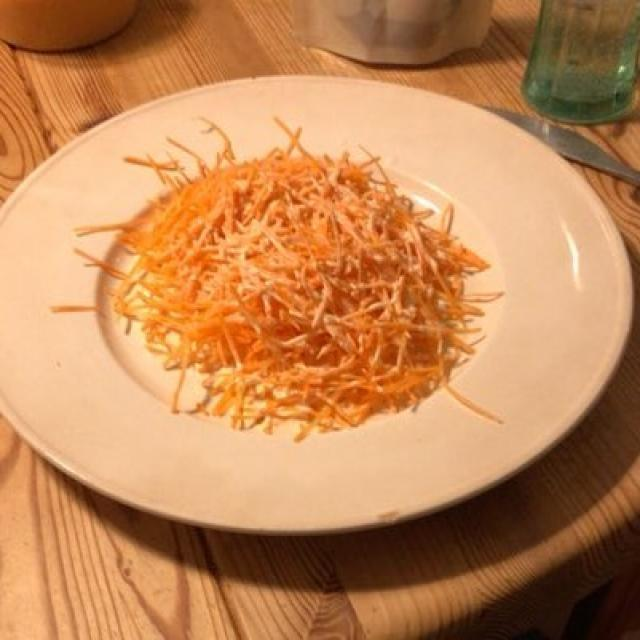carrot: (111, 143, 480, 433)
